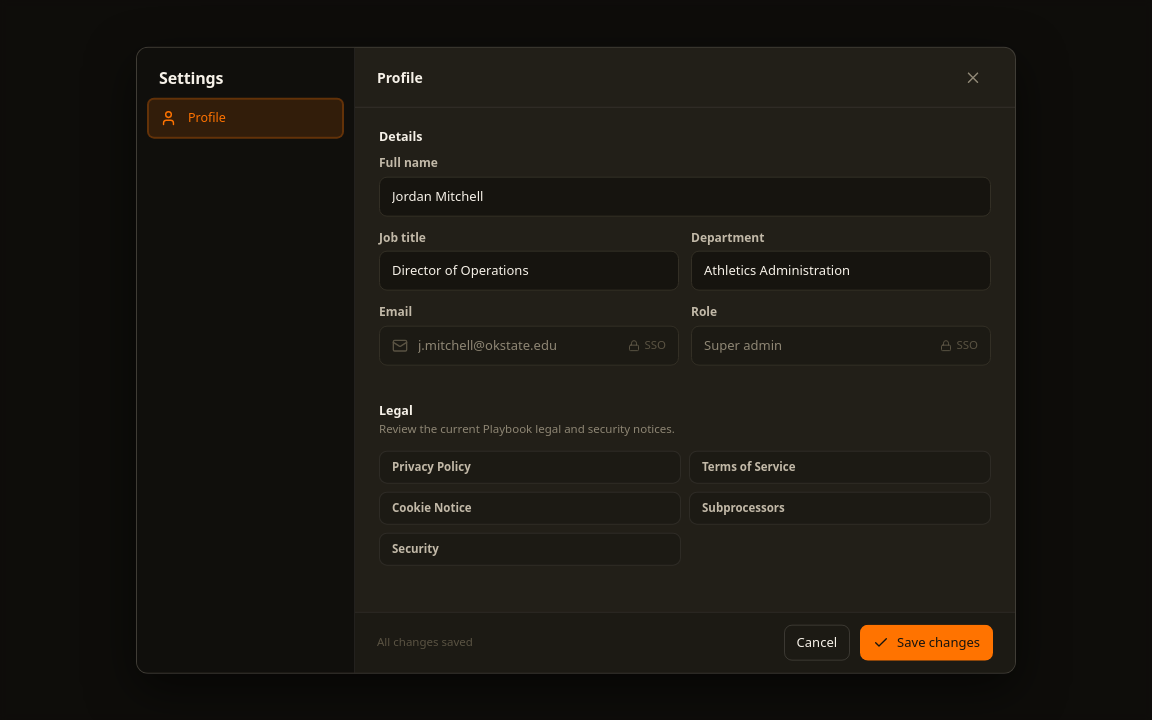
Test case: SettingsModal › tracks unsaved profile changes and clears the local dirty state on save
Replace the text in the field labelled "Job title" with "Assistant AD". click: x=529, y=271
box: [392, 263, 666, 279]
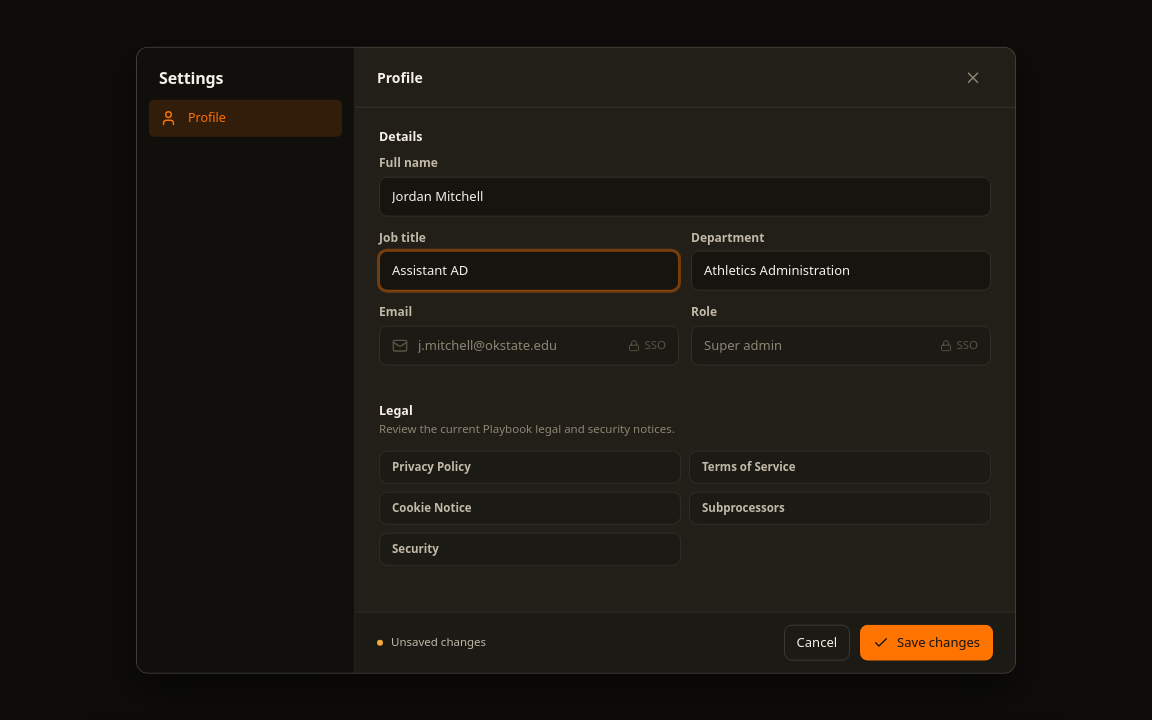
Result: the text "Unsaved changes" is shown at [377, 635, 486, 650]
Click the button "Save changes". click: x=927, y=642
box: [860, 624, 993, 660]
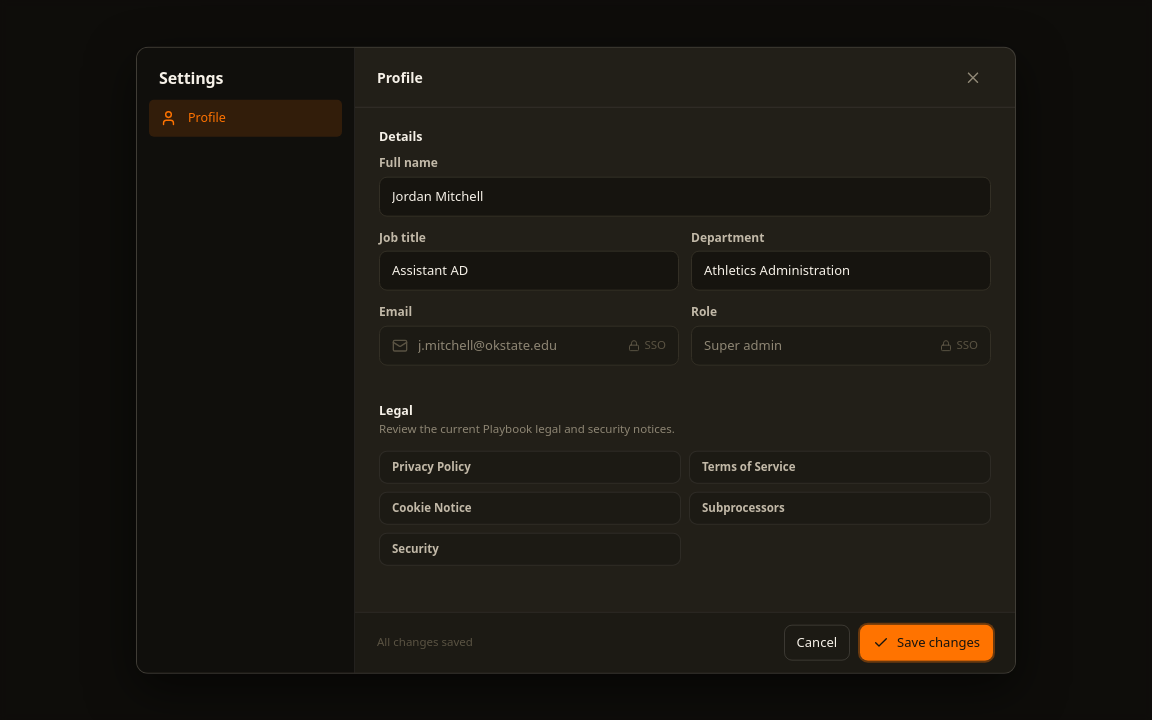
Result: the text "All changes saved" is shown at [377, 635, 473, 650]
